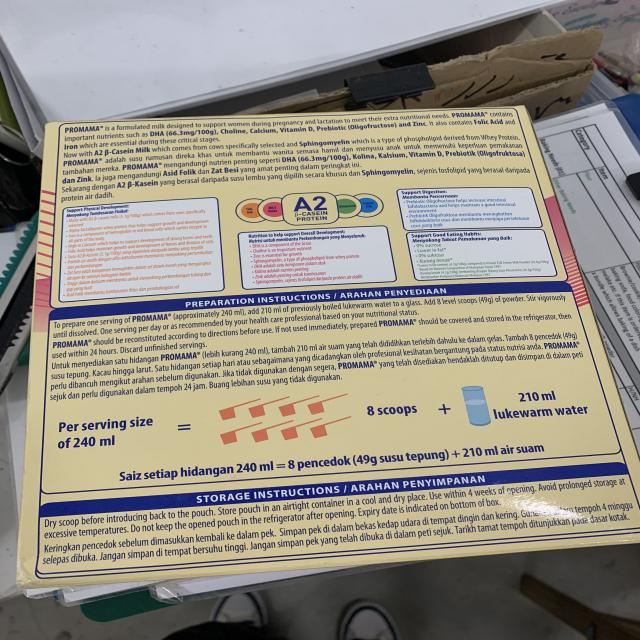object_name: (44, 129, 627, 544)
